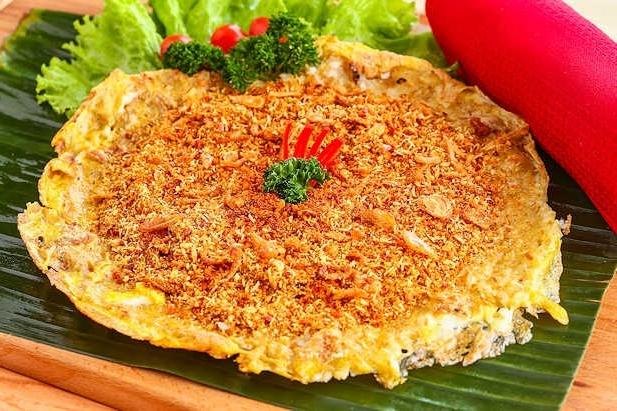kerak_telor: (17, 38, 567, 386)
